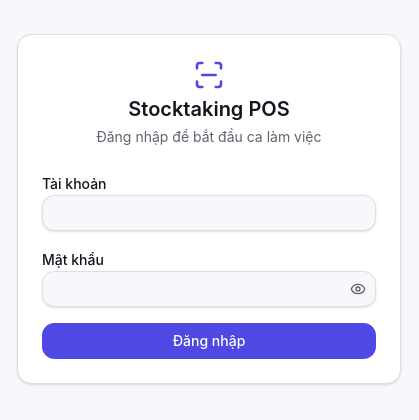
Test: LoginPage › says why a login was refused
The width and height of the screenshot is (419, 420).
Type "staff" into the field labelled "Tài khoản" at (209, 213), box x1=42 y1=195 x2=376 y2=231
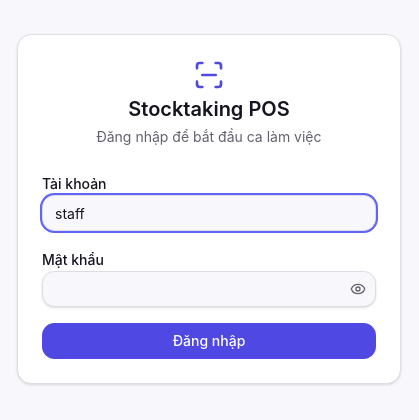
Type "sai" into the password field labelled "Mật khẩu" at (209, 289), box x1=42 y1=271 x2=376 y2=307
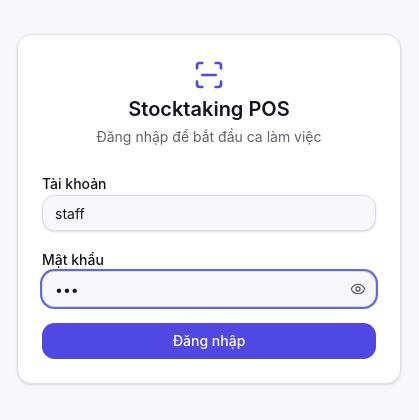
Click the button "Đăng nhập" at (209, 341), box x1=42 y1=323 x2=376 y2=359
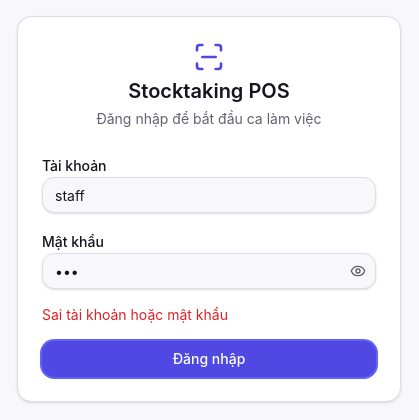
Result: the message reads "Sai tài khoản hoặc mật khẩu" at x1=42 y1=306 x2=228 y2=323
